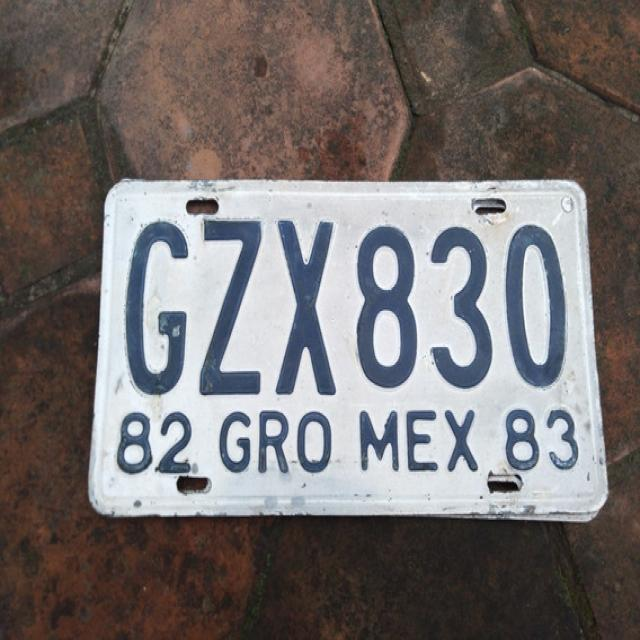placa: (113, 204, 579, 400)
